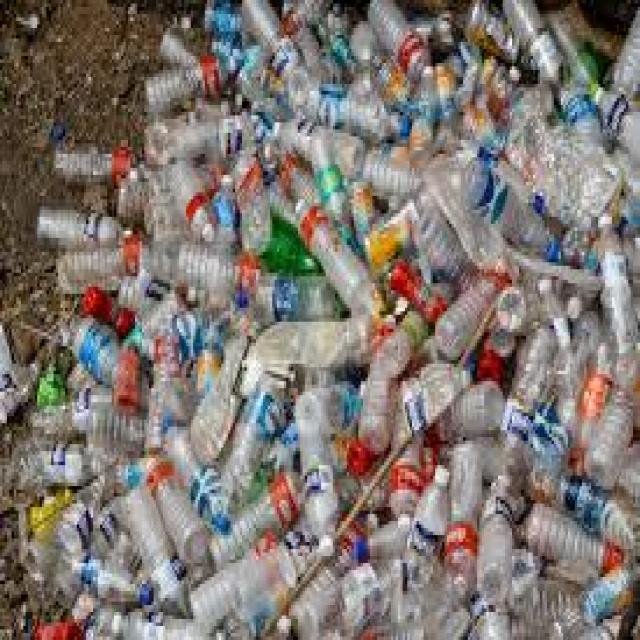plastic_bottle: (287, 133, 401, 390), (155, 219, 294, 347), (104, 461, 194, 606)
